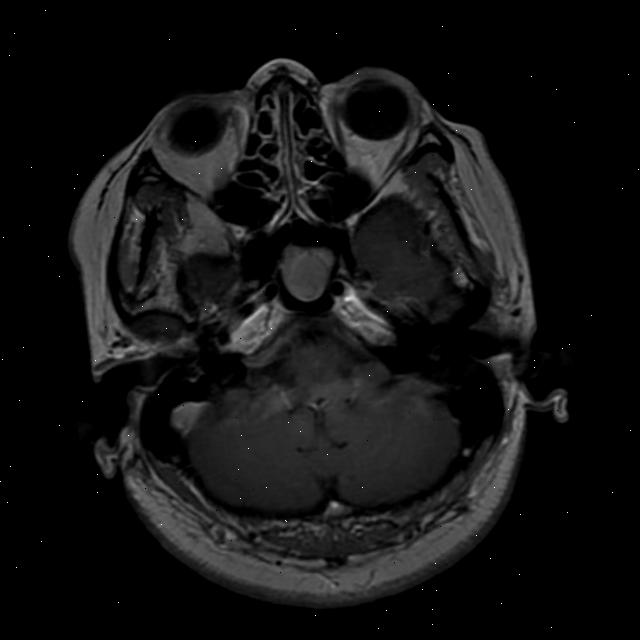Pituitary: (270, 233, 343, 307)
